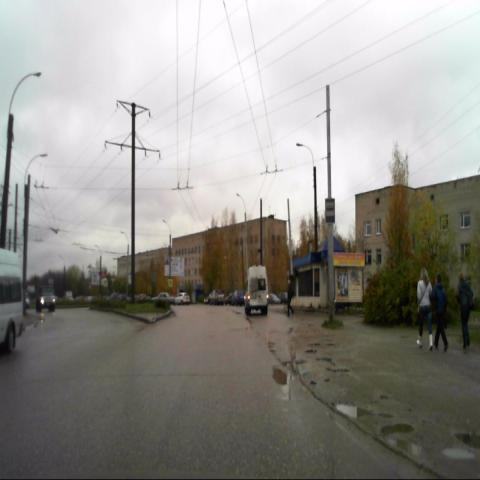5_16: (324, 198, 336, 224)
